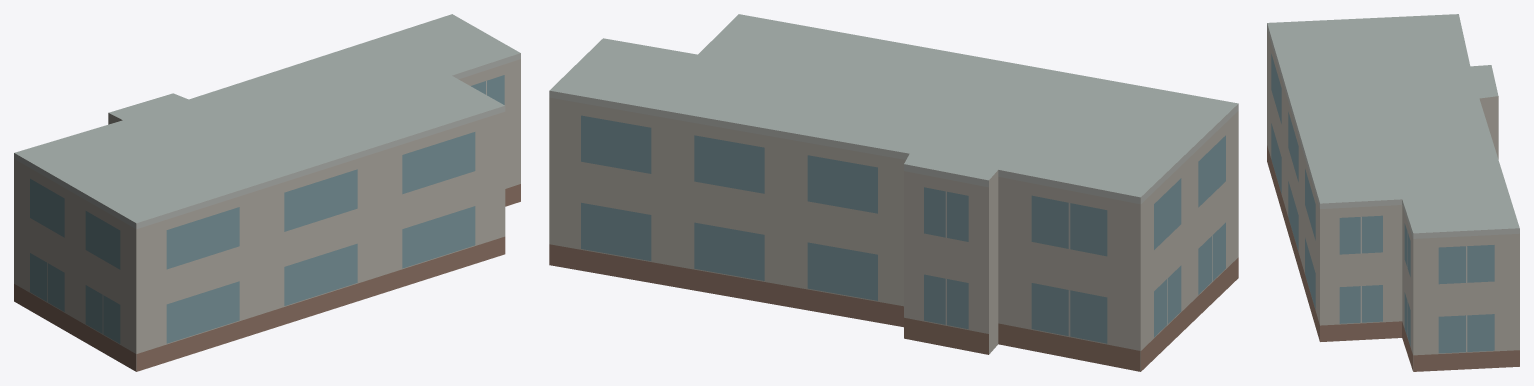
File: survey-upis-32927819.glb
The picture shows the model from 3 angles, left to right: view 1: azimuth 30°, elevation 25°; view 2: azimuth 150°, elevation 25°; view 3: azimuth 270°, elevation 25°; orthographic projection. The views are drawn at different scales.
Visible parts, largest first — view 1: survey-upis-32927819.tmp; view 2: survey-upis-32927819.tmp; view 3: survey-upis-32927819.tmp.
Boxes of the visible parts, x1,y1,x2,y2 form: survey-upis-32927819.tmp: (14,14,520,371); survey-upis-32927819.tmp: (549,14,1238,371); survey-upis-32927819.tmp: (1267,14,1519,371).
Bounding box in the file's own units: 20.74 × 6.1 × 10.1.
